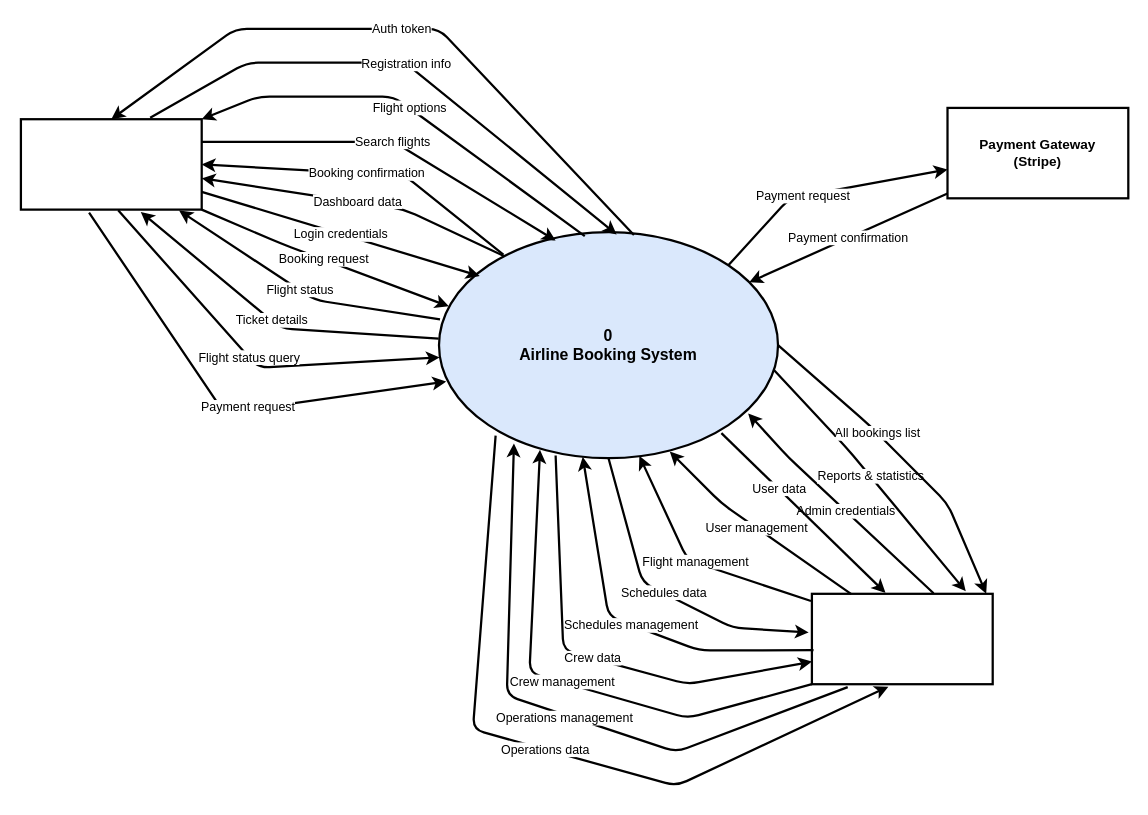
Some shapes in this 1148 by 815 pixel diagram are drawn without their labels. Each missing label, with the centre of its shape:
"Admin" belongs at (x=901, y=638).
"User" belongs at (x=110, y=164).
